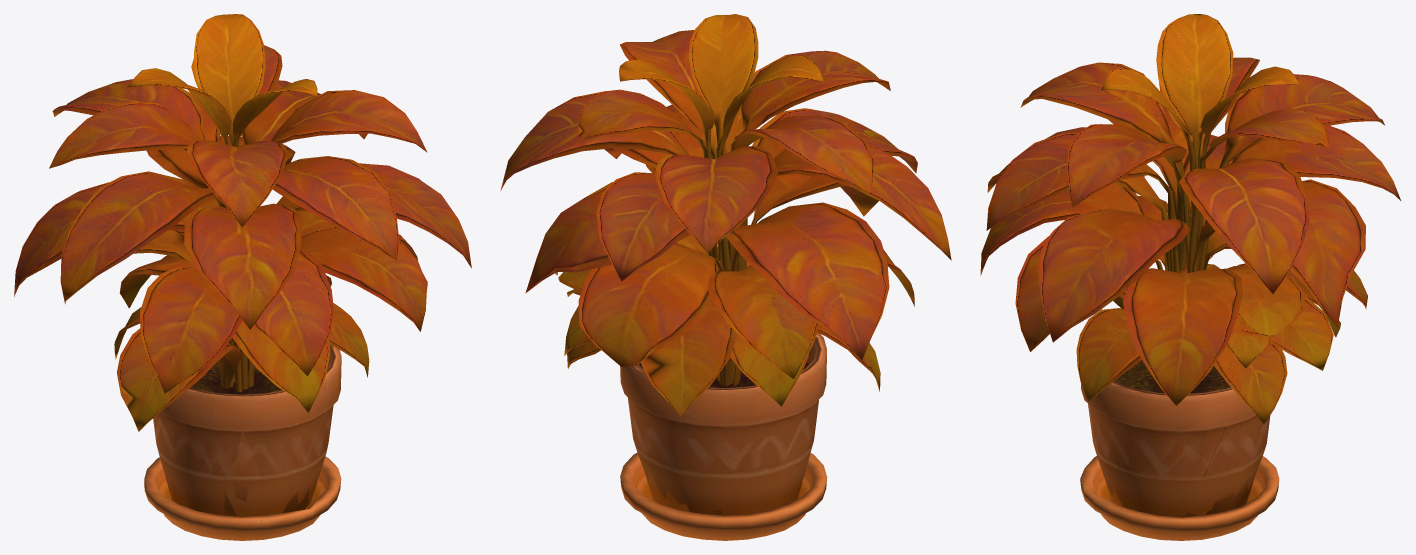
File: plant.amber.glb
3 renders of one model, left to right at view 1: azimuth 30°, elevation 25°; view 2: azimuth 150°, elevation 25°; view 3: azimuth 270°, elevation 25°, orthographic. The views are drawn at different scales.
Parts seen in each view (by area): view 1: geometry_0; view 2: geometry_0; view 3: geometry_0.
Part boxes in pixels (x1,y1,x2,y2): geometry_0: [14, 14, 471, 540]; geometry_0: [500, 14, 951, 540]; geometry_0: [980, 14, 1400, 540].
Size of the model in its own units: 0.8755 by 1 by 0.8539.
1 material, 1 textured.
